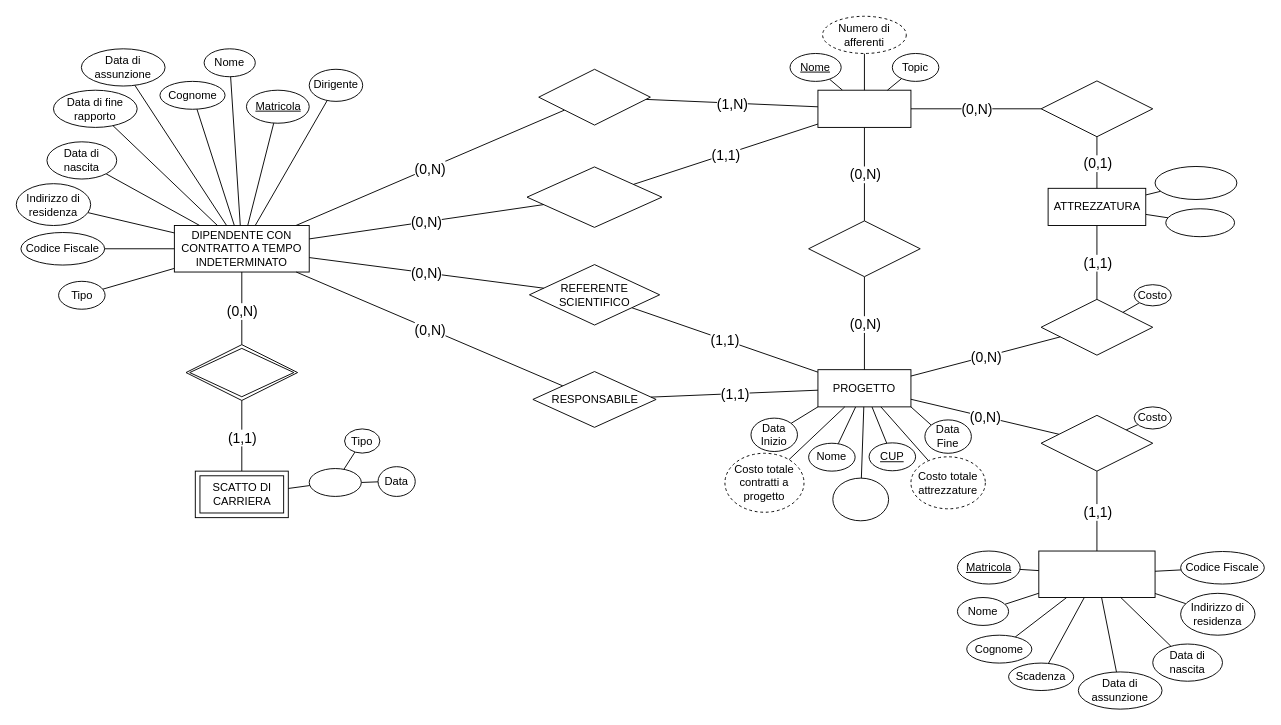
Some shapes in this 1281 by 725 pixel diagram are drawn without their labels. The box of each missing label's shape, as (x1, y1, x2, y2) in pixels:
ACQUISTO: (1040, 298, 1153, 355)
AFFERIRE: (538, 68, 650, 125)
Budget totale: (832, 477, 889, 521)
Descrizione: (1165, 208, 1235, 237)
DIPENDENTE CON CONTRATTO A PROGETTO: (1038, 550, 1155, 598)
idAttrezzatura: (1154, 166, 1237, 199)
INGAGGIARE: (1040, 414, 1153, 471)
LABORATORIO: (817, 89, 911, 127)
LAVORARE: (808, 220, 920, 277)
POSSEDERE: (1040, 80, 1153, 137)
PROGRESSIONE: (185, 344, 298, 400)
RESPONSABILE SCIENTIFICO: (526, 166, 662, 227)
TipoData: (308, 468, 361, 496)
